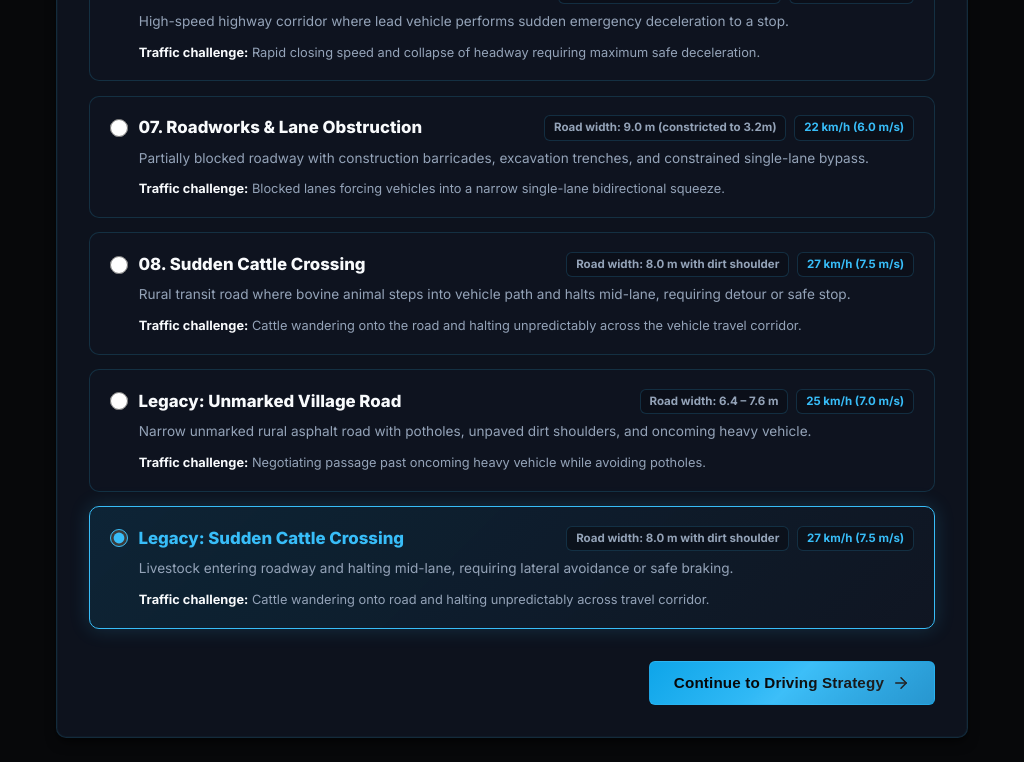
Test: NewRun Guided Three-Step Simulation Experience › renders Step 1 with all 5 canonical scenarios and navigates to Step 2
(page scrolled)
expect the text "08. Sudden Cattle Crossing" is shown: met, box [138, 252, 366, 277]
// Click Continue to Driving Strategy
Click the button "Continue to Driving Strategy" at point(792, 683), box [649, 661, 935, 705]
(page scrolled)
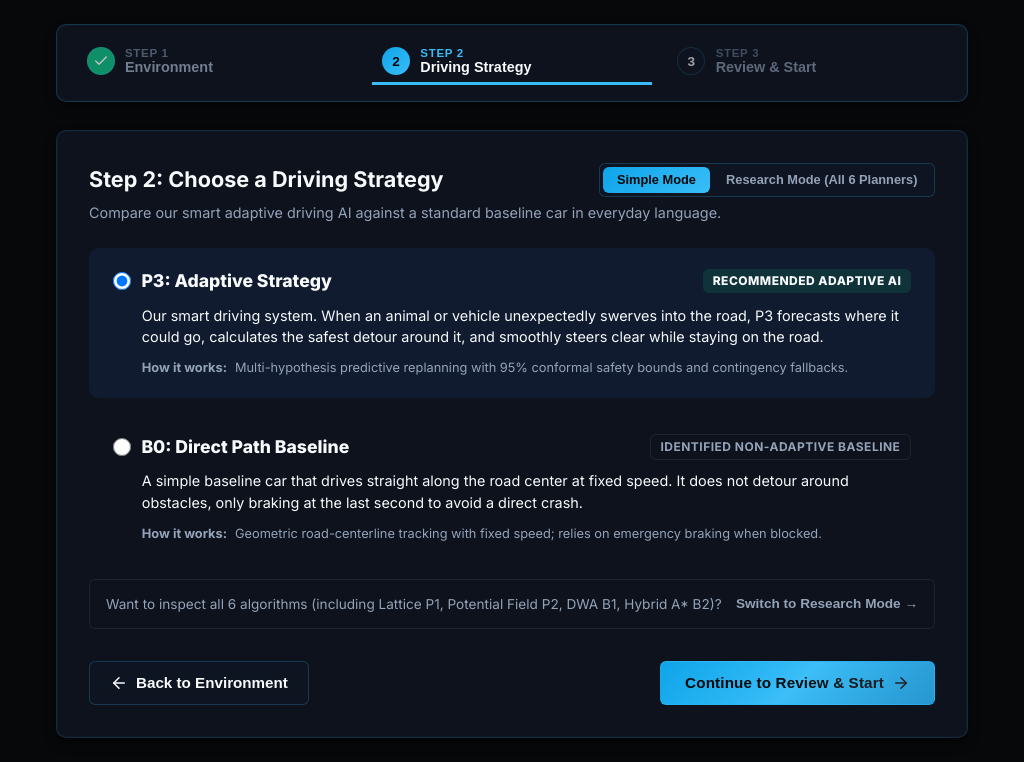
expect the heading "Step 2: Choose a Driving Strategy" is shown: met, box [89, 164, 444, 196]
